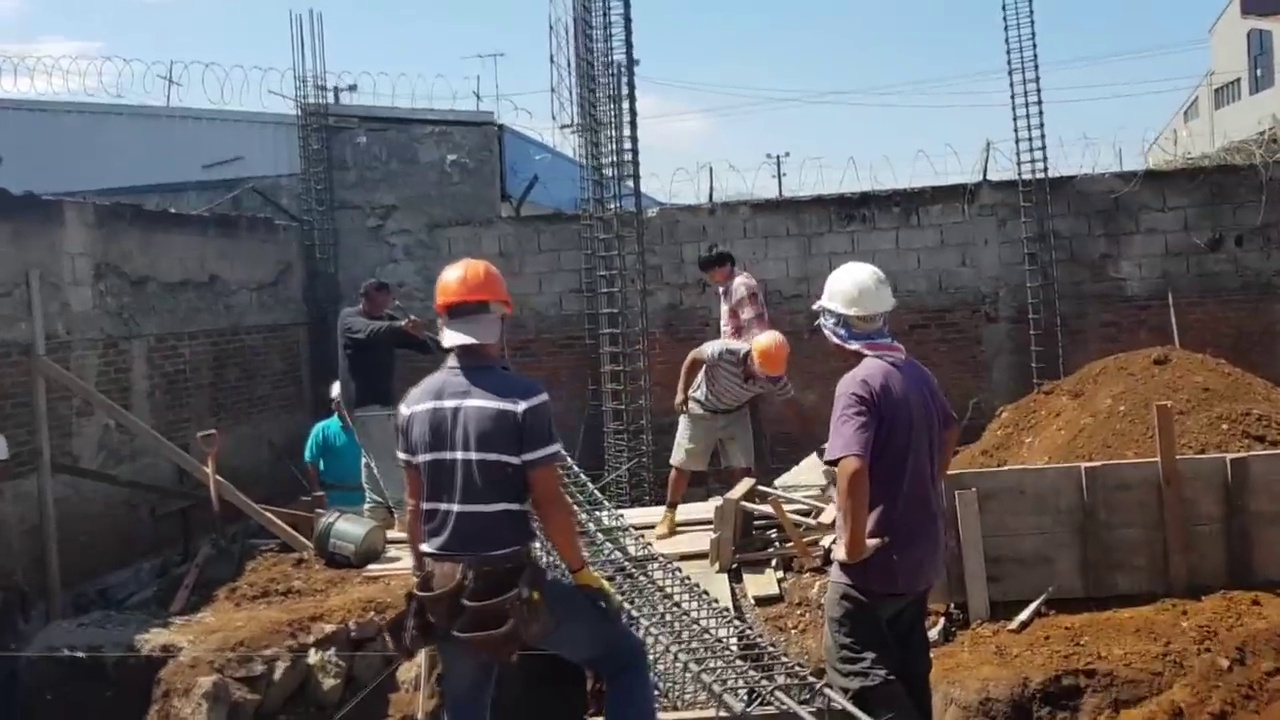helmet: (429, 257, 517, 318), (821, 265, 904, 325), (749, 331, 790, 375), (327, 377, 345, 400)
helmet-off: (697, 246, 743, 291), (355, 282, 391, 318)
helmet-on: (428, 259, 516, 367), (811, 262, 905, 360), (735, 330, 793, 390), (328, 377, 350, 421)
person: (394, 259, 660, 714), (808, 244, 958, 698), (654, 334, 811, 539), (336, 275, 431, 524), (303, 374, 364, 512), (698, 241, 772, 340)
